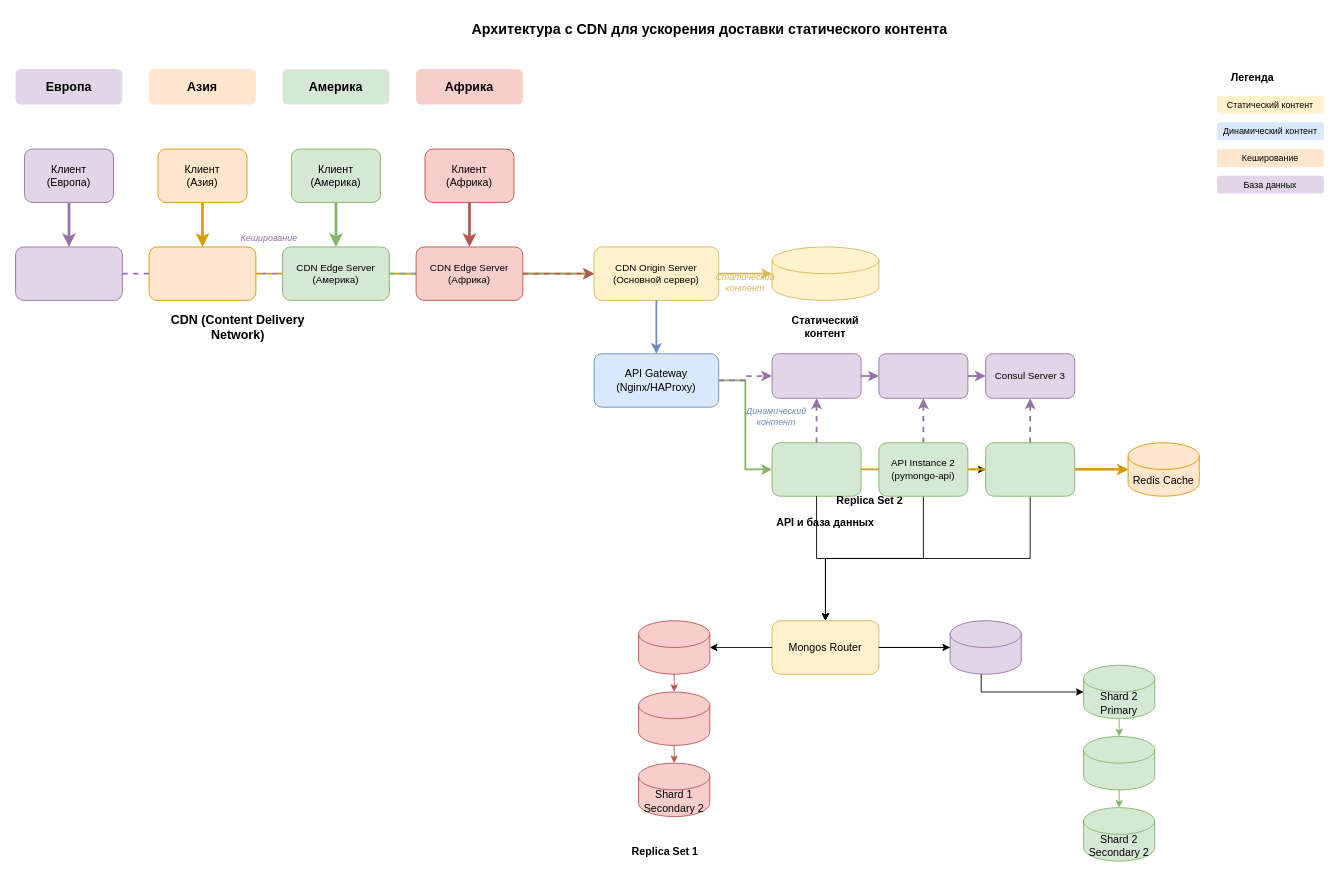
Image size: 1339x877. Some labels were removed from this diagram. Each missing label, with the centre of its shape:
API Instance 1 (pymongo-api): (816,469)
API Instance 3 (pymongo-api): (1030,469)
CDN Edge Server (Азия): (202,273)
CDN Edge Server (Европа): (68,273)
Config Server: (985,647)
Consul Server 1: (816,375)
Consul Server 2: (923,375)
Shard 1 Primary: (674,647)
Shard 1 Secondary 1: (674,718)
Shard 2 Secondary 1: (1119,763)
Static Content Storage (Изображения, CSS, JS): (825,273)
